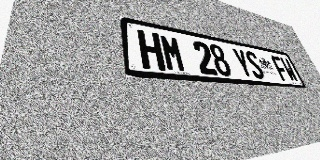2: (192, 40, 218, 75)
8: (208, 43, 233, 76)
F: (270, 55, 291, 82)
H: (137, 29, 166, 71)
M: (159, 34, 187, 73)
S: (243, 50, 266, 79)
W: (279, 57, 299, 82)
Y: (231, 48, 255, 78)
